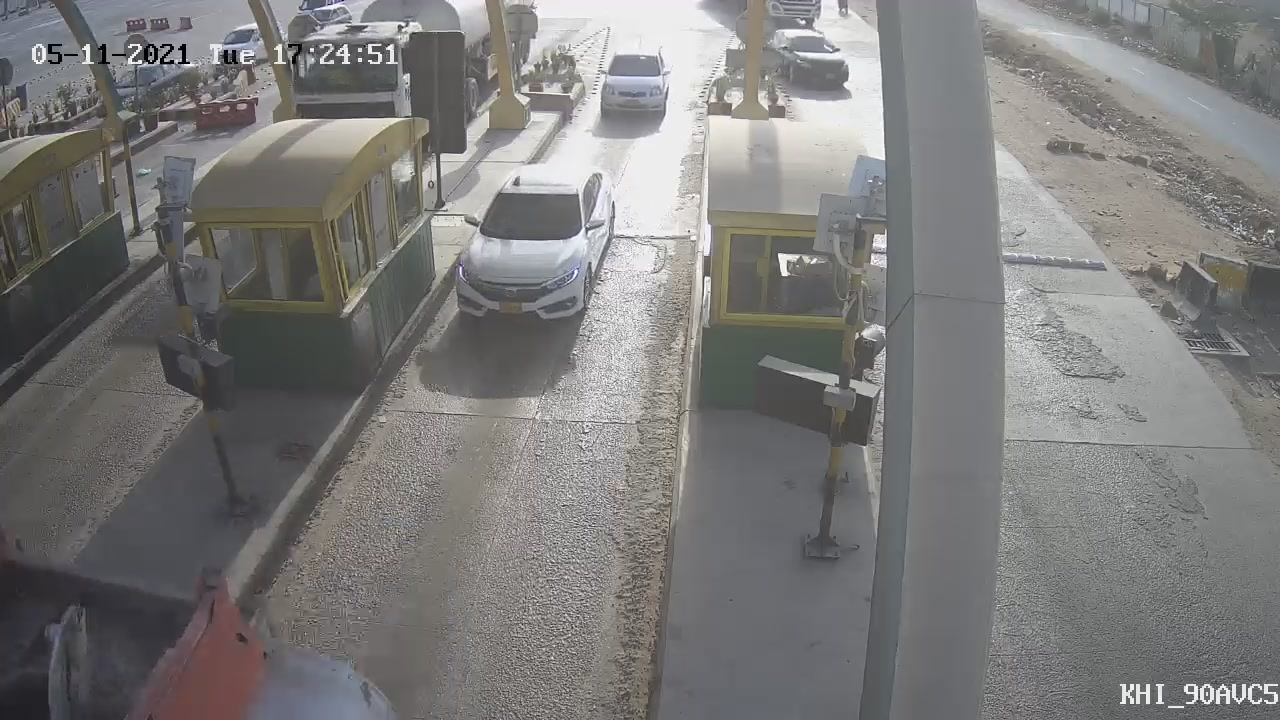F1: (433, 149, 627, 351), (585, 33, 683, 135)
